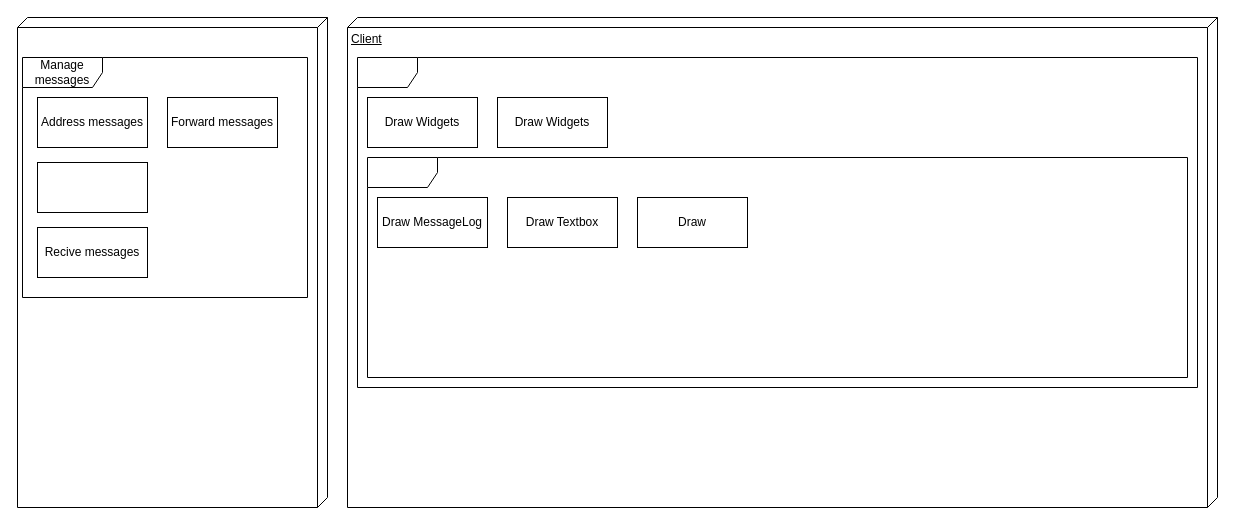
Image size: 1235x525. Some labels were removed from this diagram. The shapes that lost their labels are listed below. From the top down, each one's box as (x1, y1, x2, y2) in pixels, then its label:
(36, 162, 148, 212): Identify reciver
(356, 56, 1198, 388): Manage screen
(16, 16, 328, 508): Server
(366, 156, 1188, 378): Manage Widgets
